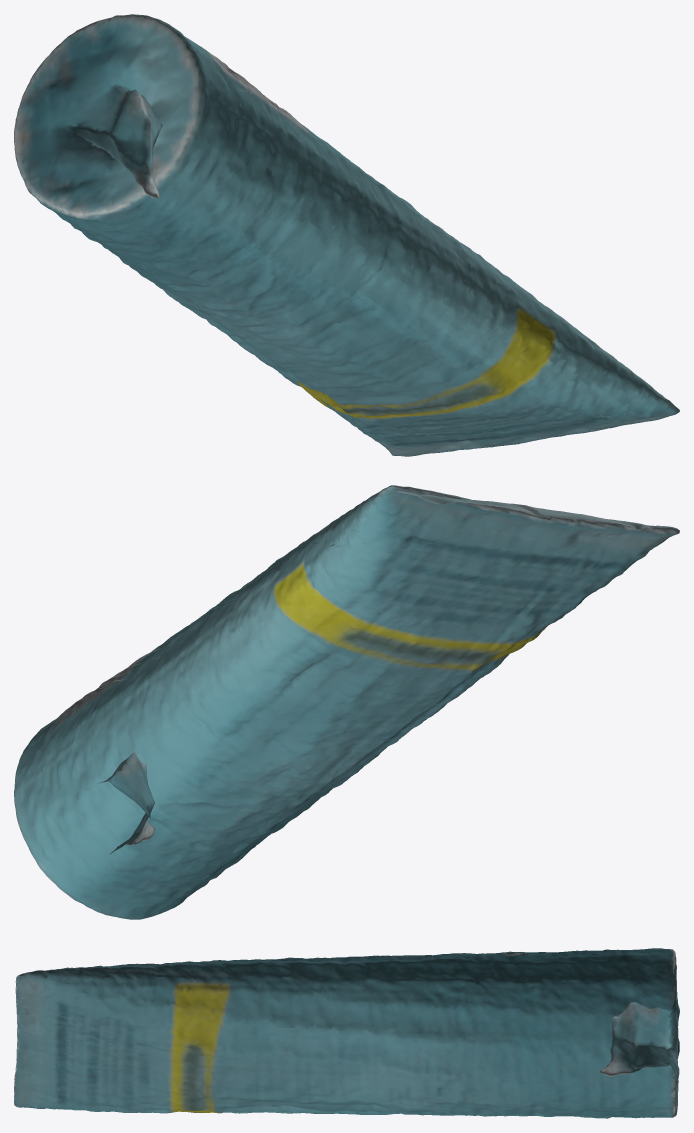
Rendered from oil.glb.
The picture shows the model from 3 angles, top to bottom: view 1: azimuth 30°, elevation 25°; view 2: azimuth 150°, elevation 25°; view 3: azimuth 270°, elevation 25°; orthographic projection. The views are drawn at different scales.
Size of the model in its own units: 0.3876 by 0.2552 by 0.9999.
